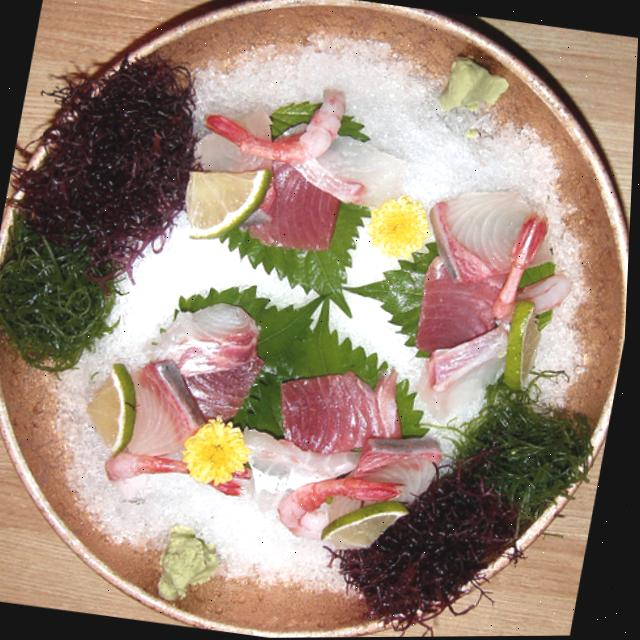刺身生食: (0, 30, 627, 616)
